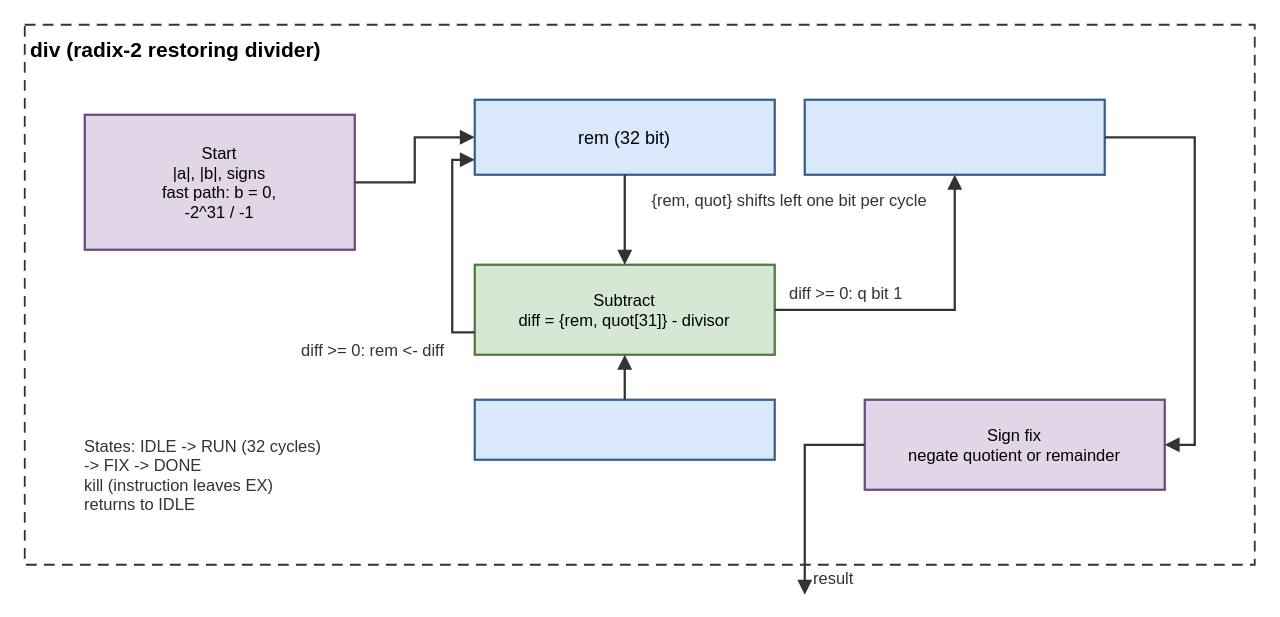
The diagram is 1280 pixels wide and 617 high, and some of its shapes have lost their labels. Here are the shapes that lost their labels. From the top down, the centre of each, then its label:
At (x=954, y=136): "quot (32 bit)".
At (x=624, y=429): "divisor (32 bit)".
